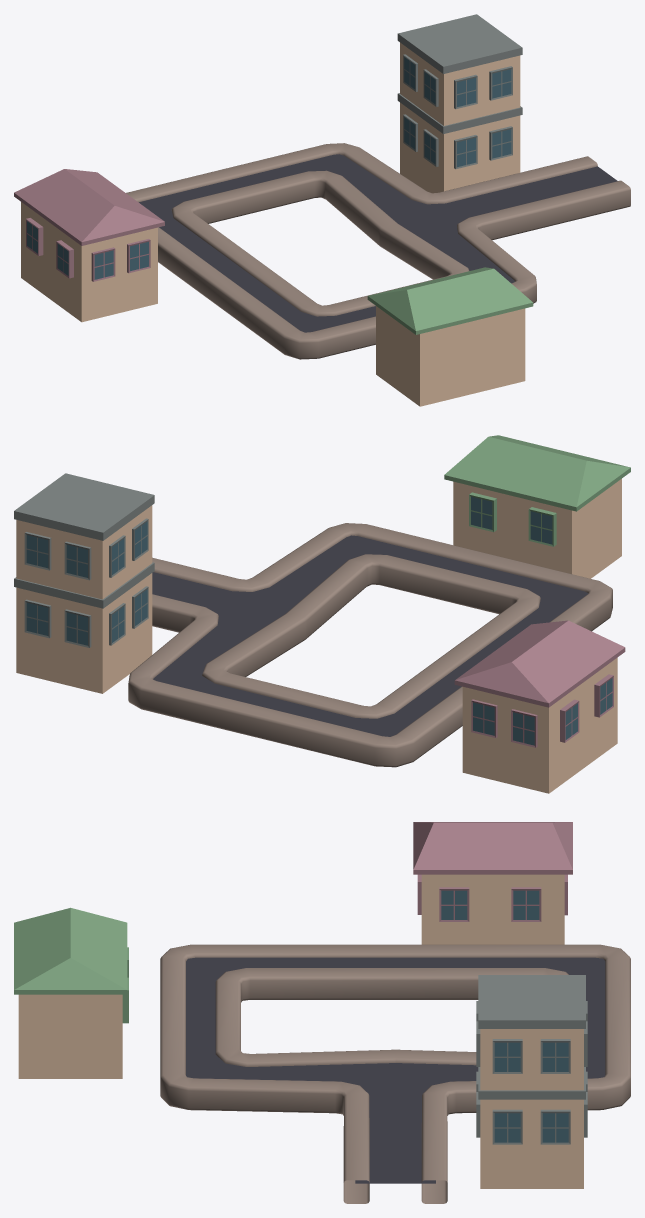
Rendered from end resi.glb.
3 renders of one model, top to bottom at view 1: azimuth 30°, elevation 25°; view 2: azimuth 150°, elevation 25°; view 3: azimuth 270°, elevation 25°, orthographic. The views are drawn at different scales.
Visible parts, largest first — view 1: road.003, house.018, house.017, 1 story.002, 1 story.003, house.020, house.021, 2 story.002, window.037, window.045, window.049, window.040 (+3 smaller); view 2: road.003, house.017, house.018, house.020, 1 story.002, 1 story.003, house.021, 2 story.002, window.044, window.046, window.050, window.038 (+4 smaller); view 3: road.003, 1 story.003, house.018, 1 story.002, house.017, house.020, 2 story.002, house.021, window.047, window.039, window.051, flat roof.003.
Part boxes in pixels (bbox=[...]): road.003: bbox=[126, 143, 630, 359]; house.018: bbox=[376, 306, 525, 406]; house.017: bbox=[21, 202, 157, 322]; 1 story.002: bbox=[14, 169, 164, 245]; 1 story.003: bbox=[367, 267, 533, 334]; house.020: bbox=[400, 102, 520, 193]; house.021: bbox=[400, 42, 520, 149]; 2 story.002: bbox=[397, 14, 522, 73]; window.037: bbox=[91, 239, 150, 281]; window.045: bbox=[454, 126, 512, 169]; window.049: bbox=[454, 66, 512, 109]; window.040: bbox=[26, 218, 73, 278]; road.003: bbox=[128, 523, 612, 767]; house.017: bbox=[462, 657, 617, 793]; house.018: bbox=[453, 479, 621, 578]; house.020: bbox=[16, 576, 152, 693]; 1 story.002: bbox=[454, 620, 625, 707]; 1 story.003: bbox=[444, 435, 630, 511]; house.021: bbox=[16, 505, 152, 625]; 2 story.002: bbox=[14, 473, 154, 540]; window.044: bbox=[469, 492, 556, 546]; window.046: bbox=[24, 599, 91, 647]; window.050: bbox=[24, 532, 91, 580]; window.038: bbox=[471, 699, 537, 747]; road.003: bbox=[160, 944, 630, 1203]; 1 story.003: bbox=[14, 907, 127, 994]; house.018: bbox=[18, 994, 122, 1078]; 1 story.002: bbox=[413, 822, 572, 874]; house.017: bbox=[421, 874, 564, 944]; house.020: bbox=[480, 1099, 583, 1188]; 2 story.002: bbox=[478, 975, 585, 1028]; house.021: bbox=[480, 1029, 583, 1118]; window.047: bbox=[492, 1109, 570, 1144]; window.039: bbox=[439, 887, 541, 921]; window.051: bbox=[492, 1039, 570, 1073]; flat roof.003: bbox=[478, 1067, 585, 1099].
Size of the model in its own units: 109 by 28.73 by 94.93.
